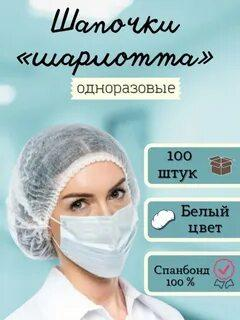hairnet: (8, 114, 147, 283)
mask: (67, 201, 156, 284)
